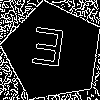E: (27, 27, 67, 76)
